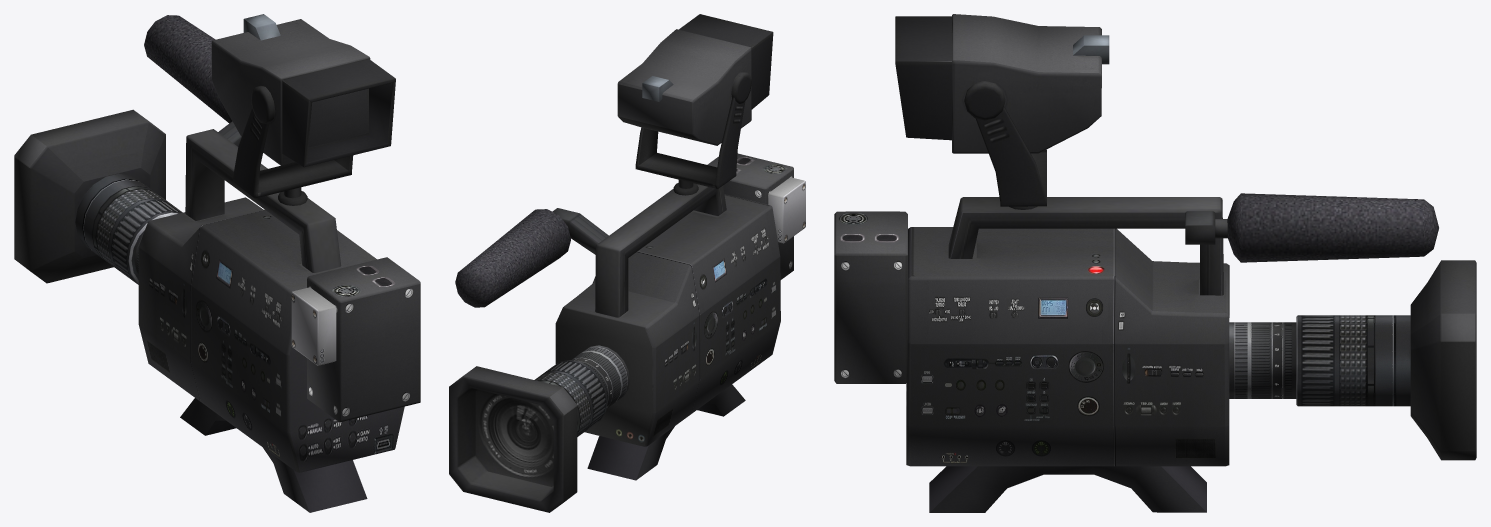
Rendered from camera.glb.
3 renders of one model, left to right at view 1: azimuth 30°, elevation 25°; view 2: azimuth 150°, elevation 25°; view 3: azimuth 270°, elevation 25°, orthographic. The views are drawn at different scales.
Parts seen in each view (by area): view 1: Camera.001; view 2: Camera.001; view 3: Camera.001.
Part boxes in pixels (x1,y1,x2,y2): Camera.001: (14,14,420,512); Camera.001: (449,14,805,512); Camera.001: (834,14,1476,512).
Bounding box in the file's own units: 0.3005 × 0.7854 × 0.9941.
1 material, 1 textured.
